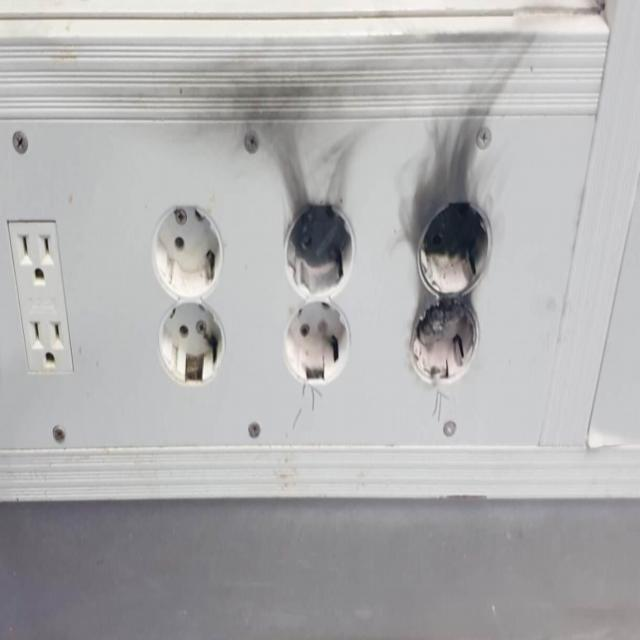typeb: (133, 175, 238, 462)
